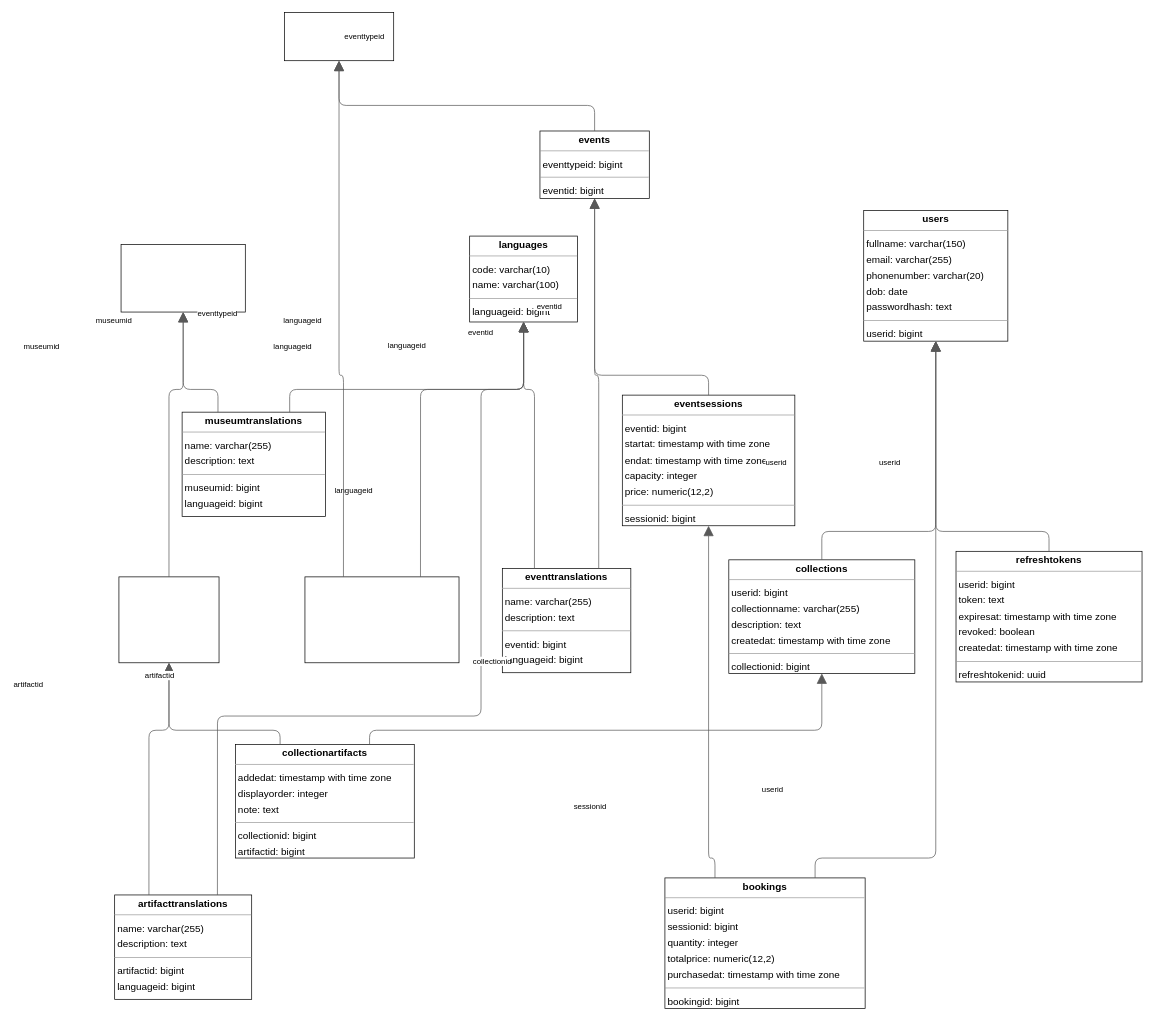
This 1154x1021 diagram has some shape labels left out. The shapes that lost their labels are listed below. From the top down, each one's box as (x1, y1, x2, y2) in pixels, then its label:
(284, 12, 394, 61): eventtypes eventtypeid: bigint
(120, 244, 245, 312): museums establisheddate: date museumid: bigint
(118, 576, 219, 663): artifacts museumid: bigint imageurl: text artifactid: bigint
(304, 576, 459, 663): eventtypetranslations name: varchar(150) eventtypeid: bigint languageid: bigint
